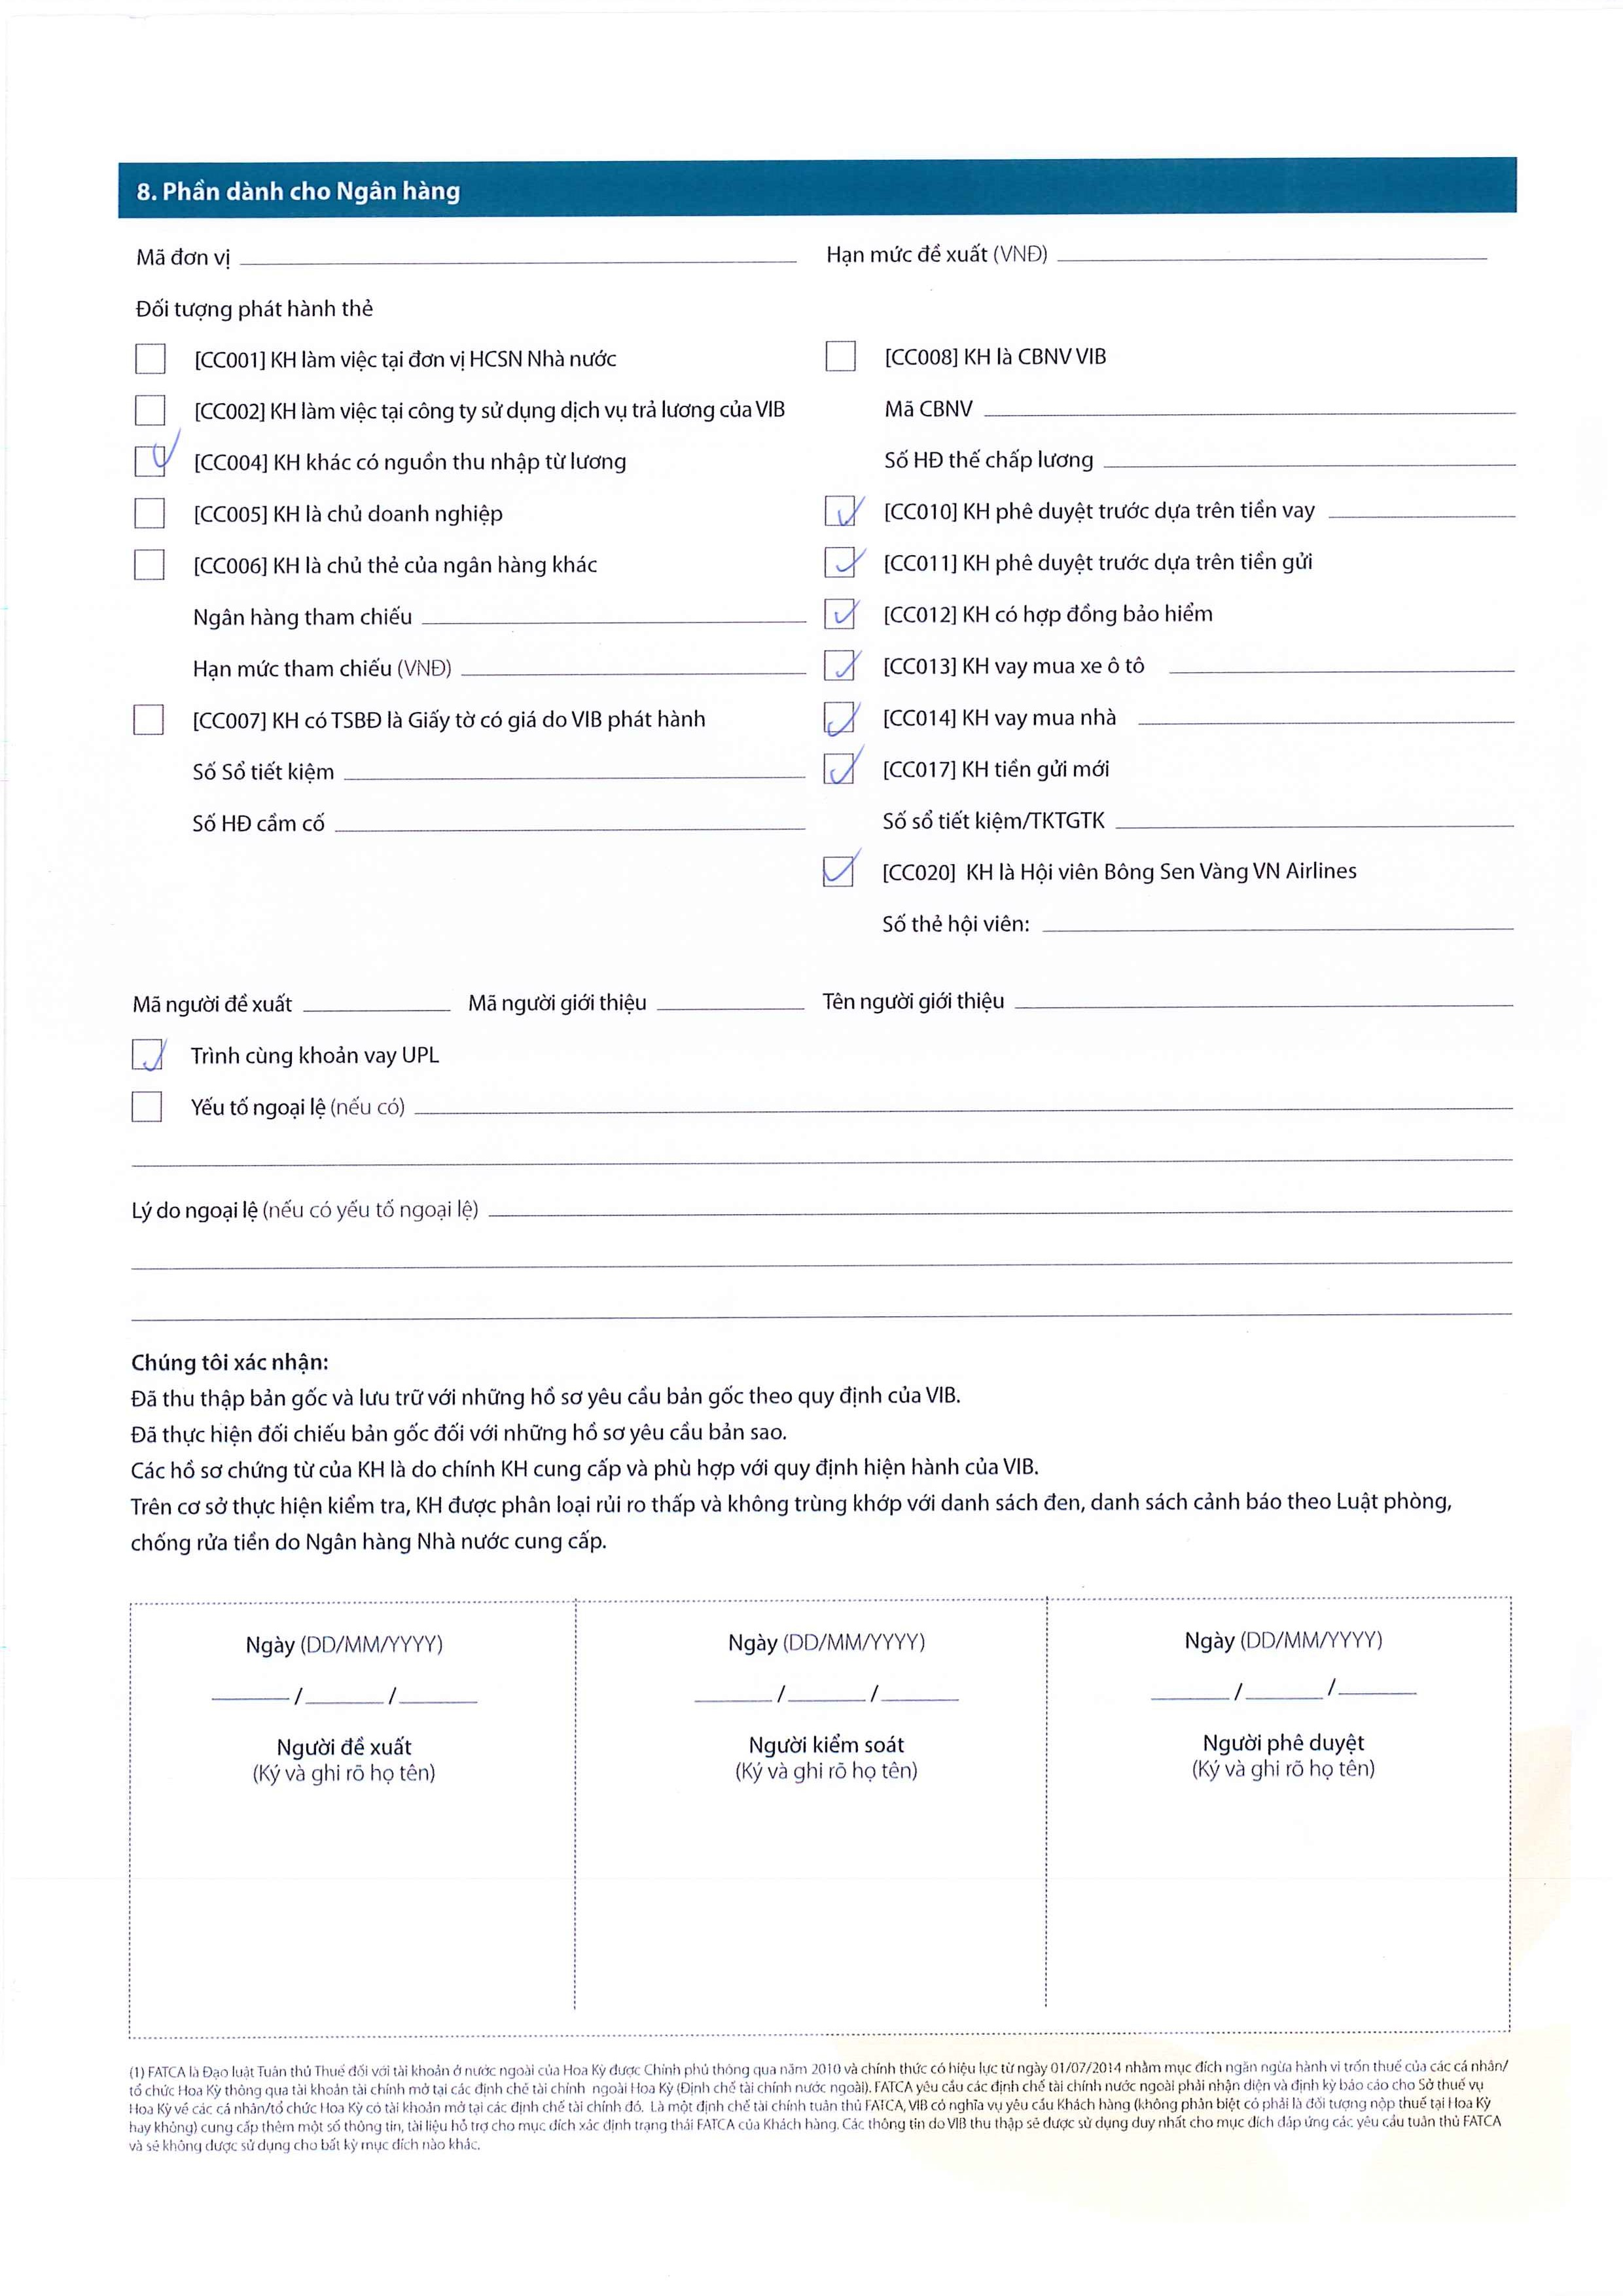box: (126, 545, 172, 585), (822, 539, 861, 587), (819, 645, 861, 687), (819, 696, 861, 738), (128, 439, 170, 480), (820, 337, 861, 379), (130, 339, 170, 379), (128, 1033, 169, 1073), (128, 1084, 169, 1124), (130, 492, 169, 534), (130, 390, 169, 430), (128, 699, 167, 740), (819, 490, 857, 531), (819, 748, 859, 787), (819, 594, 857, 632), (819, 852, 857, 891)
